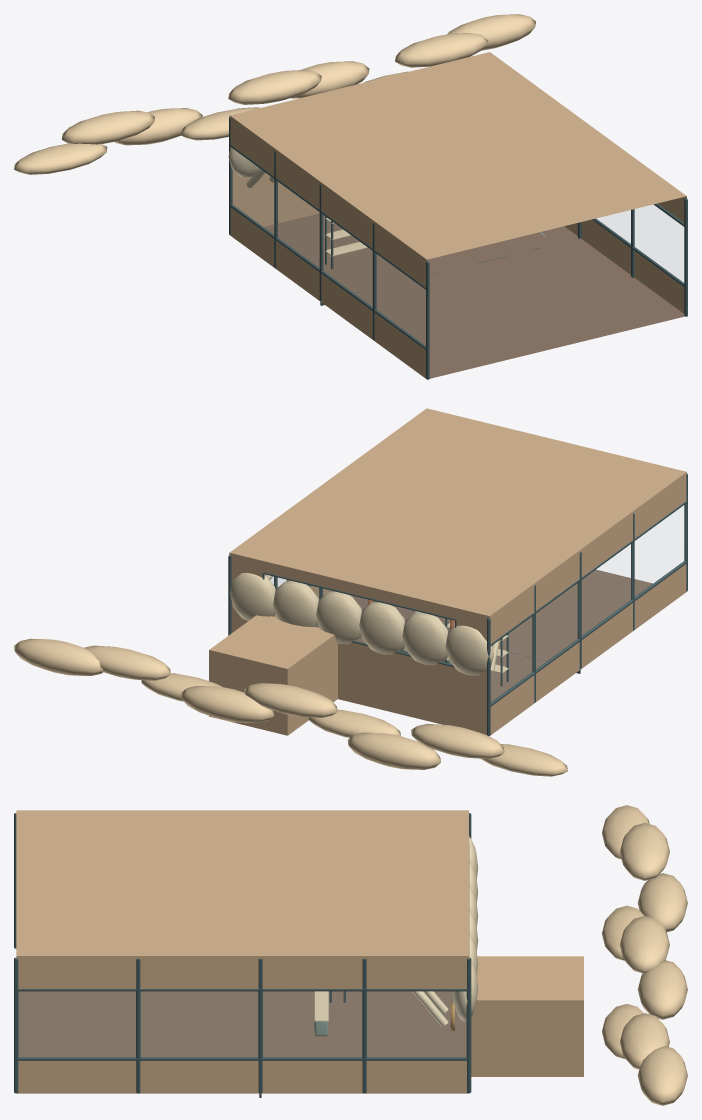
The model's file is depot.glb.
3 views of the same model, one above another, from view 1: azimuth 30°, elevation 25°; view 2: azimuth 150°, elevation 25°; view 3: azimuth 270°, elevation 25° (orthographic). The views are drawn at different scales.
Parts seen in each view (by area): view 1: Roof panels - Wall, Floor extension - Floor, Outside the glazing - Glass rim, Port wall - Wall, Floor - Floor, Port wall - Rib, Starboard wall - Wall, Rear bulkhead - Wall, Starboard wall - Rib, Signature architecture - Pale; view 2: Roof panels - Wall, Outside the glazing - Glass rim, Rear bulkhead - Wall, Port wall - Wall, Signature architecture - Pale, Floor extension - Floor, Stockroom - Wall, Store lid - Wall, Port wall - Rib, Floor - Floor, Rear bulkhead - Rib; view 3: Roof panels - Wall, Starboard wall - Wall, Outside the glazing - Glass rim, Floor extension - Floor, Floor - Floor, Stockroom - Wall, Starboard wall - Rib, Store lid - Wall, Signature architecture - Pale, Port wall - Rib, Counter - Pale.
Part boxes in pixels (bbox=[...]): Roof panels - Wall: bbox=[230, 52, 686, 259]; Floor extension - Floor: bbox=[355, 238, 684, 378]; Outside the glazing - Glass rim: bbox=[14, 14, 535, 174]; Port wall - Wall: bbox=[229, 115, 426, 378]; Floor - Floor: bbox=[264, 213, 578, 293]; Port wall - Rib: bbox=[229, 117, 429, 379]; Starboard wall - Wall: bbox=[564, 196, 686, 313]; Rear bulkhead - Wall: bbox=[232, 170, 319, 226]; Starboard wall - Rib: bbox=[577, 198, 687, 316]; Signature architecture - Pale: bbox=[228, 147, 274, 187]; Roof panels - Wall: bbox=[229, 408, 686, 616]; Outside the glazing - Glass rim: bbox=[14, 638, 567, 776]; Rear bulkhead - Wall: bbox=[229, 553, 489, 734]; Port wall - Wall: bbox=[489, 472, 686, 735]; Signature architecture - Pale: bbox=[230, 573, 499, 675]; Floor extension - Floor: bbox=[351, 569, 652, 661]; Stockroom - Wall: bbox=[209, 635, 337, 735]; Store lid - Wall: bbox=[209, 615, 334, 668]; Port wall - Rib: bbox=[487, 473, 687, 736]; Floor - Floor: bbox=[317, 625, 546, 702]; Rear bulkhead - Rib: bbox=[262, 572, 456, 667]; Roof panels - Wall: bbox=[16, 810, 468, 955]; Starboard wall - Wall: bbox=[16, 956, 468, 1093]; Outside the glazing - Glass rim: bbox=[602, 805, 687, 1105]; Floor extension - Floor: bbox=[18, 991, 258, 1056]; Floor - Floor: bbox=[263, 991, 466, 1056]; Stockroom - Wall: bbox=[471, 1000, 583, 1076]; Starboard wall - Rib: bbox=[14, 957, 471, 1093]; Store lid - Wall: bbox=[477, 956, 583, 1000]; Signature architecture - Pale: bbox=[411, 837, 478, 1027]; Port wall - Rib: bbox=[14, 813, 471, 948]; Counter - Pale: bbox=[314, 991, 328, 1021].
Size of the model in its own units: 39.7 by 8.75 by 37.53.
